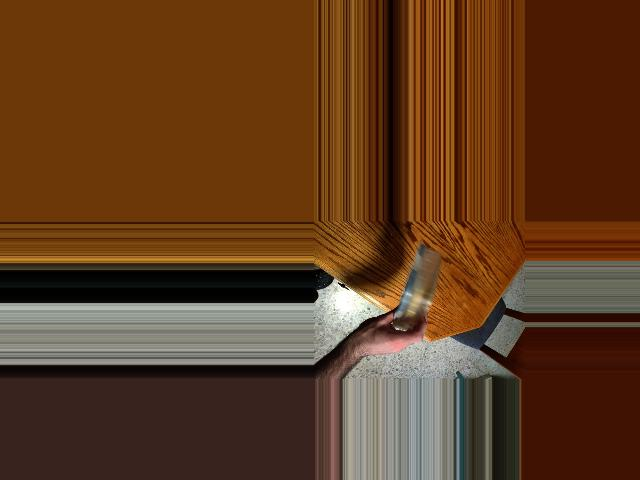cheese: (402, 242, 436, 339)
